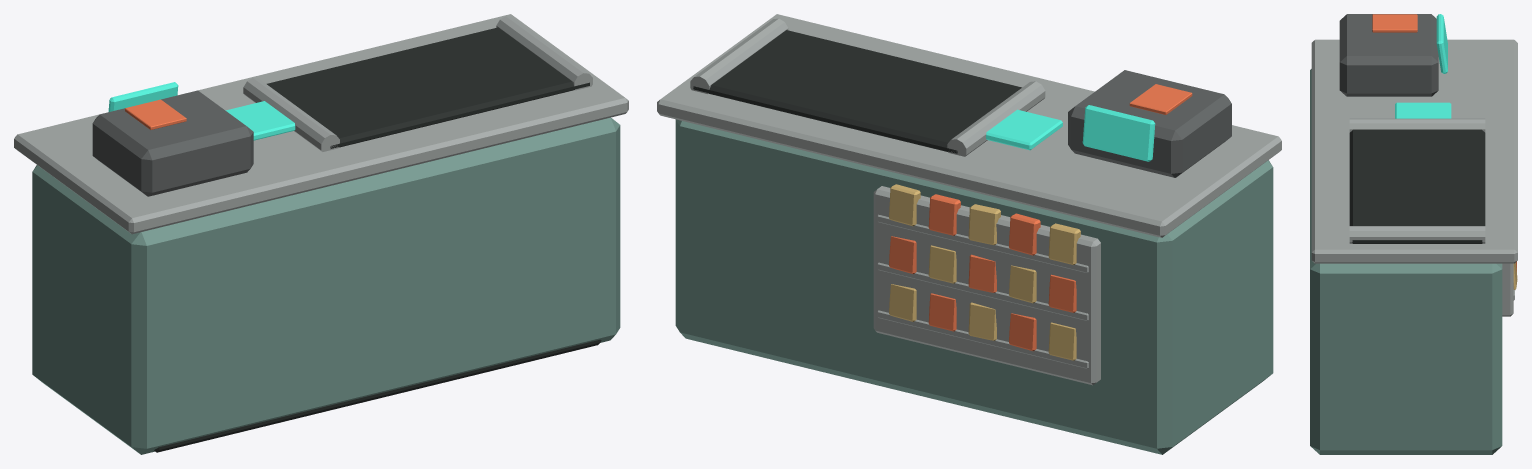
File: checkout_counter.glb
3 renders of one model, left to right at view 1: azimuth 30°, elevation 25°; view 2: azimuth 150°, elevation 25°; view 3: azimuth 270°, elevation 25°, orthographic. The views are drawn at different scales.
Parts seen in each view (by area): view 1: checkout_counter; view 2: checkout_counter; view 3: checkout_counter.
Part boxes in pixels (<box>): checkout_counter: <box>14,14,628,454</box>; checkout_counter: <box>657,14,1281,454</box>; checkout_counter: <box>1310,14,1517,454</box>.
Bounding box in the file's own units: 1.78 × 1.01 × 0.735.
